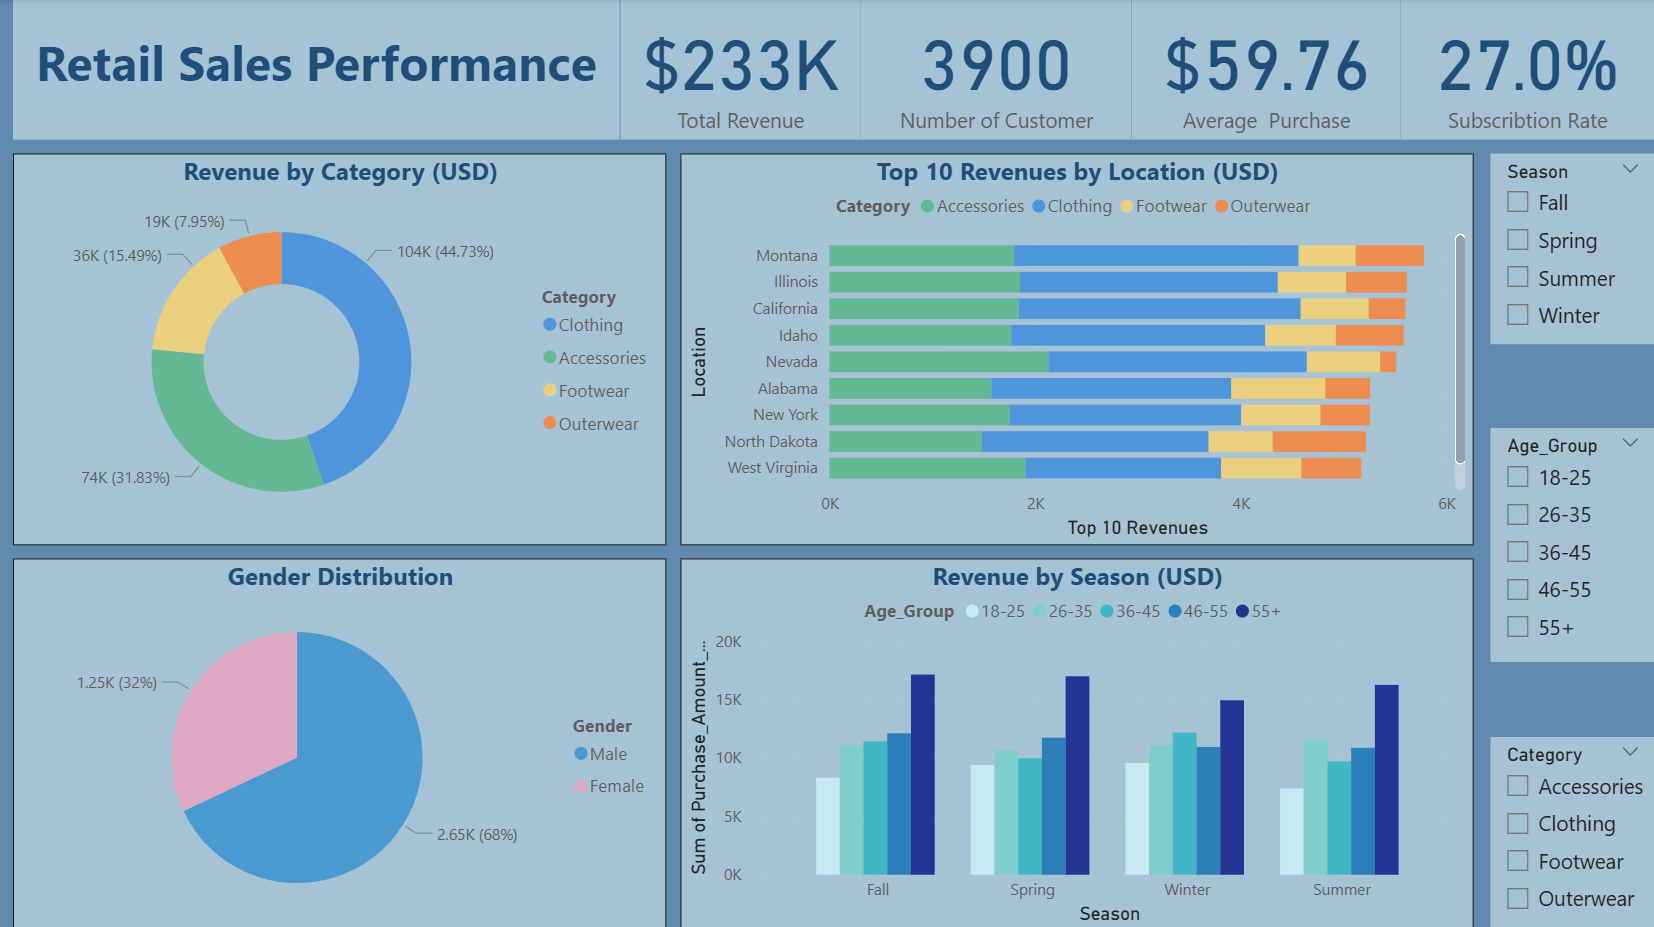

This screenshot's page, from the dashboard's own definition file:
{"tool":"powerbi","page":{"name":"Page 1","canvas":[1280,720],"ordinal":0},"visuals":[{"type":"card","fields":{"Values":["Sum(Sheet1.Purchase_Amount_USD)"]},"box":[480.9,0,185.4,108.9],"z":0},{"type":"card","fields":{"Values":["CountNonNull(Sheet1.Gender)"]},"box":[666.3,0,209.3,108.9],"z":1000},{"type":"card","fields":{"Values":["Avg(Sheet1.Purchase_Amount_USD)"]},"box":[876,0,207.4,108.9],"z":2000},{"type":"card","fields":{"Values":["Sheet1.Subscribtion Rate"]},"box":[1083.8,0,196.2,108.9],"z":3000},{"type":"donutChart","title":"Revenue by Category (USD)","fields":{"Category":["Sheet1.Category"],"Y":["Sum(Sheet1.Purchase_Amount_USD)"]},"box":[12,119.6,504.8,302.7],"z":4000},{"type":"barChart","title":"Top 10 Revenues by Location (USD)","fields":{"Category":["Sheet1.Location"],"Y":["Sum(Sheet1.Purchase_Amount_USD)"],"Series":["Sheet1.Category"]},"box":[527.6,119.6,612.5,302.7],"z":5000},{"type":"pieChart","title":"Gender Distribution","fields":{"Y":["CountNonNull(Sheet1.Gender)"],"Category":["Sheet1.Gender"]},"box":[12,431.9,504.8,288.3],"z":6000},{"type":"clusteredColumnChart","title":"Revenue by Season (USD)","fields":{"Category":["Sheet1.Season"],"Y":["Sum(Sheet1.Purchase_Amount_USD)"],"Series":["Sheet1.Age_Group"]},"box":[527.6,431.9,612.5,288.3],"z":7000},{"type":"textbox","box":[12,0,468.9,108.9],"z":8000},{"type":"slicer","fields":{"Values":["Sheet1.Season"]},"box":[1153.2,119.6,126.8,147.1],"z":9000},{"type":"slicer","fields":{"Values":["Sheet1.Age_Group"]},"box":[1153.2,331.4,126.8,180.6],"z":10000},{"type":"slicer","fields":{"Values":["Sheet1.Category"]},"box":[1153.2,570.6,126.8,149.5],"z":11000}]}

Visuals, with their boxes in screenshot pixels (x1, y1, x2, y2), scaled from the page's 1280x720 canvas onto the 1654x927 screenshot:
card - Sum(Sheet1.Purchase_Amount_USD): <region>621, 0, 861, 140</region>
card - CountNonNull(Sheet1.Gender): <region>861, 0, 1131, 140</region>
card - Avg(Sheet1.Purchase_Amount_USD): <region>1132, 0, 1400, 140</region>
card - Sheet1.Subscribtion Rate: <region>1400, 0, 1653, 140</region>
"Revenue by Category (USD)" donutChart: <region>16, 154, 668, 544</region>
"Top 10 Revenues by Location (USD)" barChart: <region>682, 154, 1473, 544</region>
"Gender Distribution" pieChart: <region>16, 556, 668, 926</region>
"Revenue by Season (USD)" clusteredColumnChart: <region>682, 556, 1473, 926</region>
textbox: <region>16, 0, 621, 140</region>
slicer - Sheet1.Season: <region>1490, 154, 1653, 343</region>
slicer - Sheet1.Age_Group: <region>1490, 427, 1653, 659</region>
slicer - Sheet1.Category: <region>1490, 735, 1653, 926</region>
